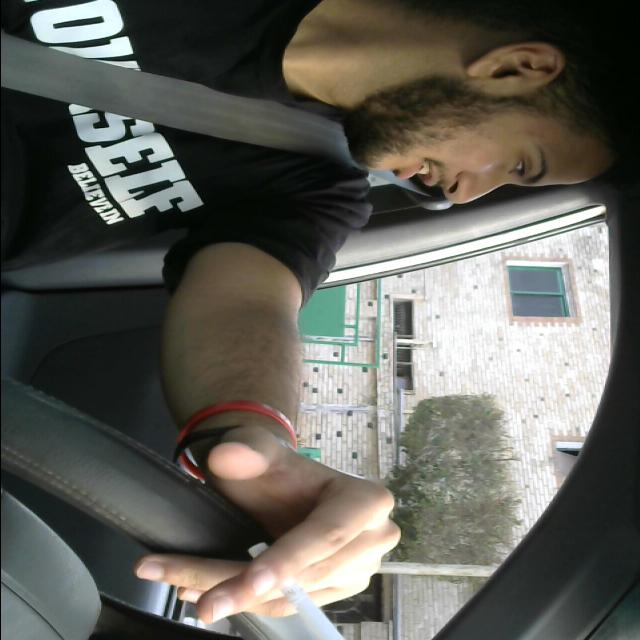smoking: (241, 540, 361, 640)
